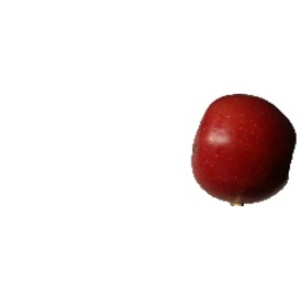maçã braeburn: (190, 93, 297, 203)
